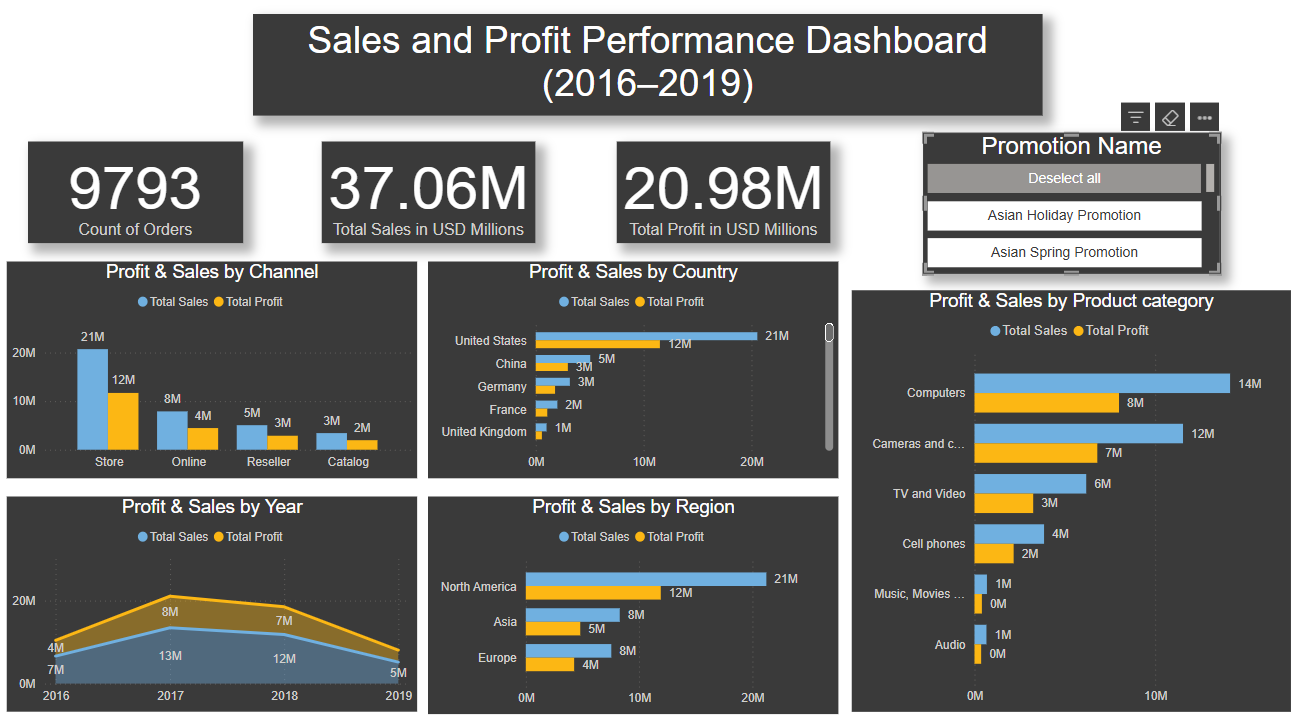

This screenshot's page, from the dashboard's own definition file:
{"tool":"powerbi","page":{"name":"Page 1","canvas":[1300,726],"ordinal":0},"visuals":[{"type":"card","fields":{"Values":["Sum(Data.Sales)"]},"box":[323.8,142.5,213.8,101.2],"z":0},{"type":"card","fields":{"Values":["Sum(Data.Profit)"]},"box":[618.8,142.5,213.8,101.2],"z":1000},{"type":"card","fields":{"Values":["CountNonNull(Data.Order ID)"]},"box":[30,142.5,215,101.2],"z":2000},{"type":"textbox","box":[254.9,14.8,789.3,101.5],"z":3000},{"type":"clusteredColumnChart","title":"Profit & Sales by Channel","fields":{"Category":["Data.Channel"],"Y":["Sum(Data.Sales)","Sum(Data.Profit)"]},"box":[8.7,262.3,410.8,216.5],"z":4000},{"type":"clusteredBarChart","title":"Profit & Sales by Country","fields":{"Category":["Data.Country"],"Y":["Sum(Data.Sales)","Sum(Data.Profit)"]},"box":[430.6,262.3,410.8,216.5],"z":5000},{"type":"stackedAreaChart","title":"Profit & Sales by Year","fields":{"Category":["Data.Order Date.Variation.Date Hierarchy.Year"],"Y":["Sum(Data.Sales)","Sum(Data.Profit)"]},"box":[8.7,497.4,410.8,215.3],"z":6000},{"type":"clusteredBarChart","title":"Profit & Sales by Region","fields":{"Category":["Data.Region"],"Y":["Sum(Data.Sales)","Sum(Data.Profit)"]},"box":[430.6,497.4,410.8,217.8],"z":7000},{"type":"advancedSlicerVisual","fields":{"Values":["Data.Promotion Name"]},"box":[925.4,133.6,296.9,141],"z":9000},{"type":"clusteredBarChart","title":"Profit &  Sales by Product category","fields":{"Category":["Data.Product Category"],"Y":["Sum(Data.Sales)","Sum(Data.Profit)"]},"box":[853.7,290.7,439.2,421.9],"z":10000}]}

Visuals, with their boxes in screenshot pixels (x1, y1, x2, y2), scaled from the page's 1300x726 canvas onto the 1297x722 screenshot:
card - Sum(Data.Sales): <box>323,142,536,242</box>
card - Sum(Data.Profit): <box>617,142,831,242</box>
card - CountNonNull(Data.Order ID): <box>30,142,244,242</box>
textbox: <box>254,15,1042,116</box>
"Profit & Sales by Channel" clusteredColumnChart: <box>9,261,419,476</box>
"Profit & Sales by Country" clusteredBarChart: <box>430,261,839,476</box>
"Profit & Sales by Year" stackedAreaChart: <box>9,495,419,709</box>
"Profit & Sales by Region" clusteredBarChart: <box>430,495,839,711</box>
advancedSlicerVisual - Data.Promotion Name: <box>923,133,1219,273</box>
"Profit &  Sales by Product category" clusteredBarChart: <box>852,289,1290,709</box>
